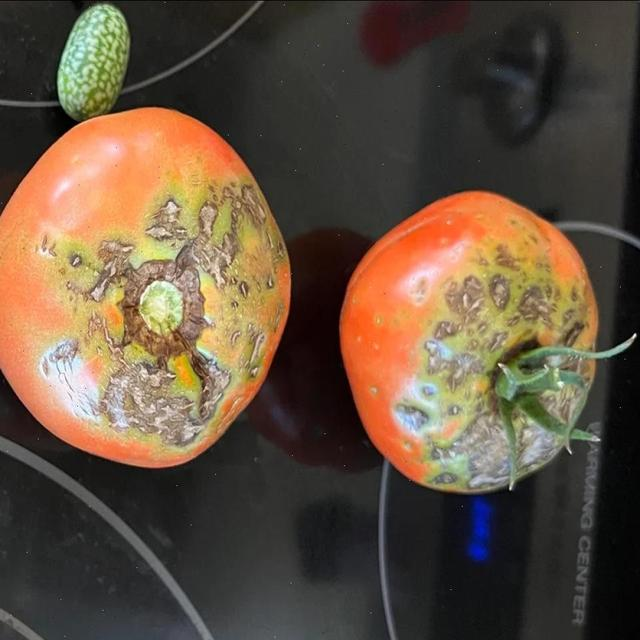Spotted wilt Virus Fruit: (98, 190, 314, 240)
